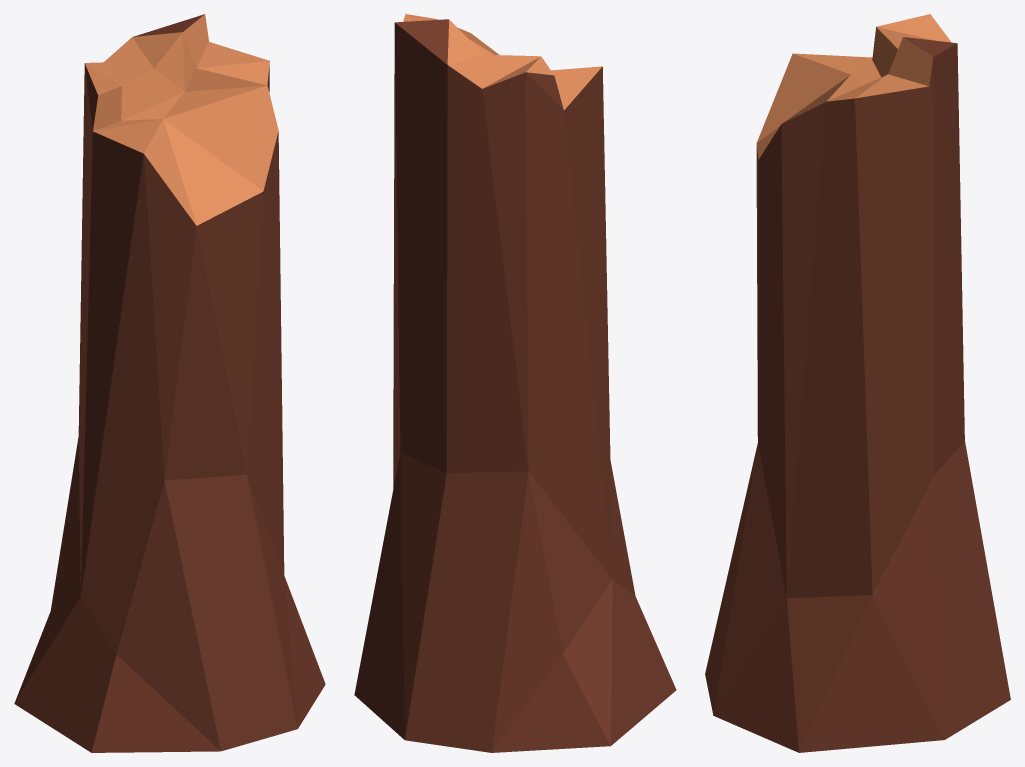
File: pine_trunk_type_9_LOD2.fbx
3 views of the same model, side by side, from view 1: azimuth 30°, elevation 25°; view 2: azimuth 150°, elevation 25°; view 3: azimuth 270°, elevation 25° (orthographic). The views are drawn at different scales.
Parts seen in each view (by area): view 1: pt_type_9; view 2: pt_type_9; view 3: pt_type_9.
Part boxes in pixels (x1=…): pt_type_9: x1=14, y1=14, x2=325, y2=752; pt_type_9: x1=354, y1=14, x2=676, y2=752; pt_type_9: x1=705, y1=14, x2=1010, y2=752.
Bounding box in the file's own units: 157 × 378 × 157.
